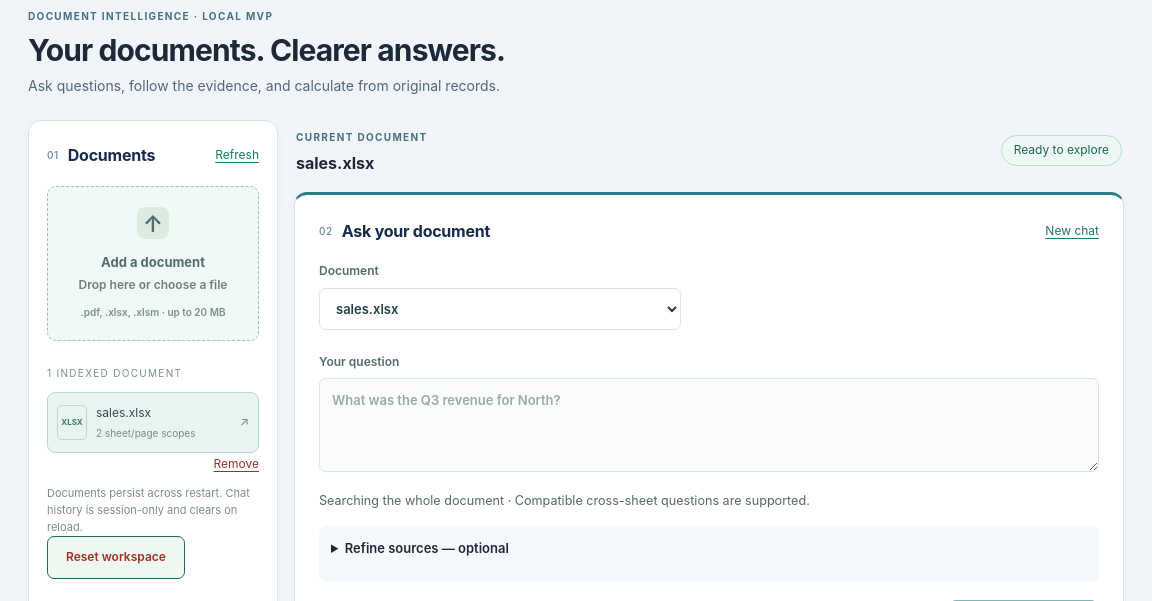
Test: subtotal and missing coverage stay visible when evidence is collapsed
Type "SUM Q3 Revenue" into the text box labelled "Your question" at (709, 425), box left=319, top=378, right=1099, bottom=472
(page scrolled)
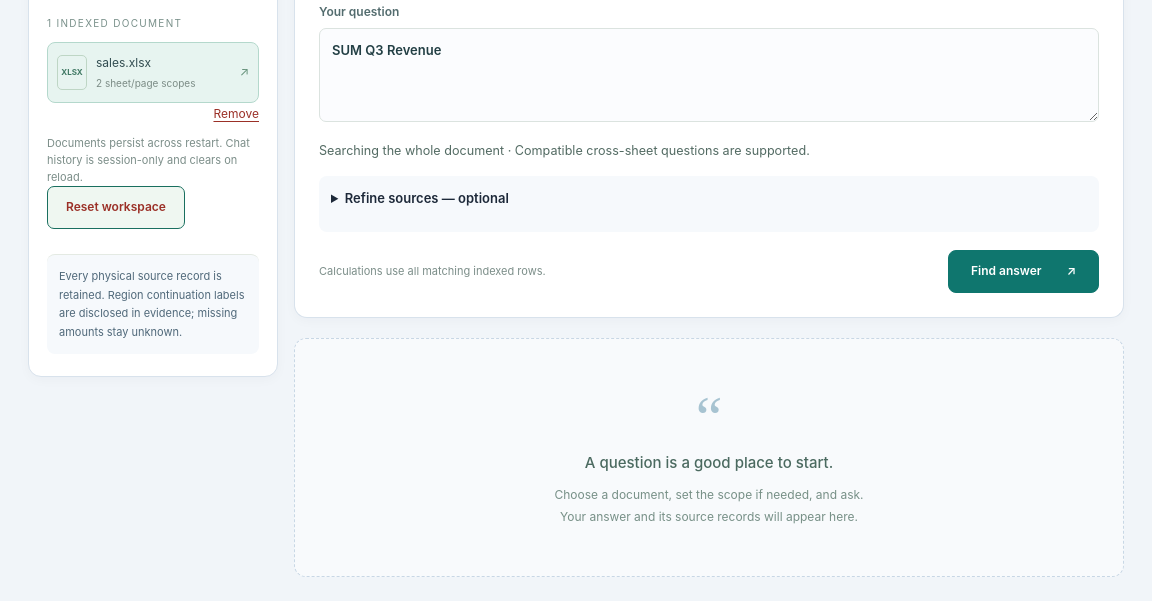
Click the button "Find answer ↗" at (1024, 272), box left=948, top=250, right=1099, bottom=293
(page scrolled)
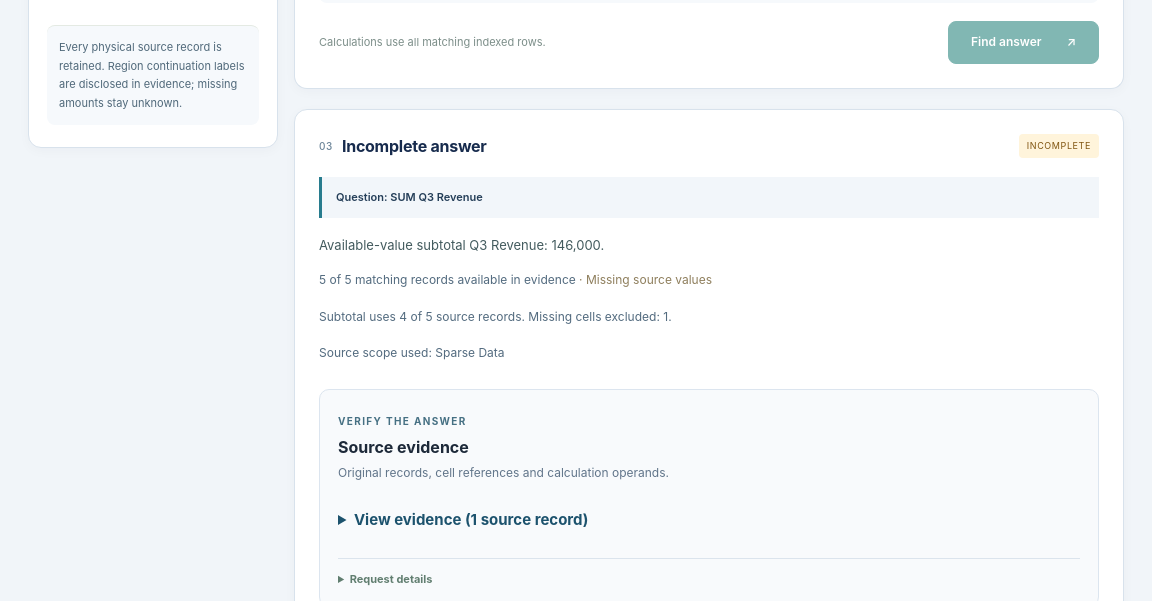
expect the text "Available-value subtotal Q3 Revenue: 146,000." is shown: met, box left=319, top=237, right=604, bottom=253
expect the text "Subtotal uses 4 of 5 source records" is shown: met, box left=319, top=308, right=672, bottom=324
expect the text "Source scope used: Sparse Data" is shown: met, box left=319, top=345, right=504, bottom=360
